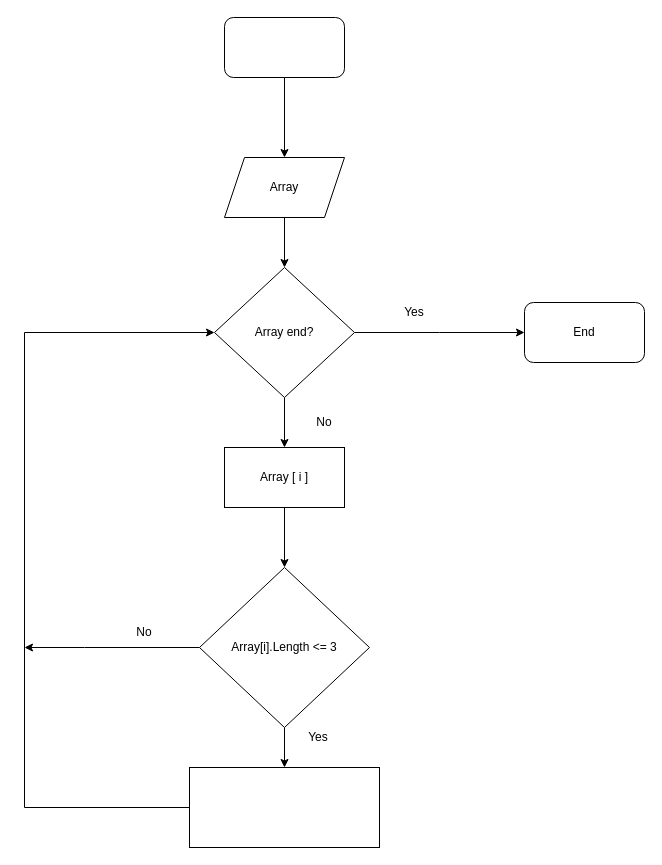
The diagram is 662 pixels wide and 865 high, and some of its shapes have lost their labels. The centre of each missing label's shape, as x and y in pixels:
NewArray=Array[i]: the point at 284,807
Start: the point at 284,47
